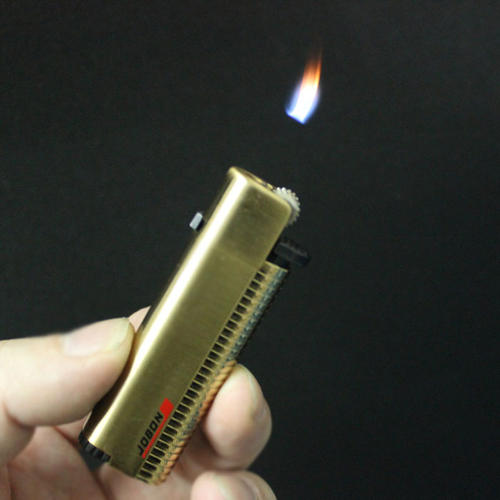fire: (271, 48, 340, 161)
